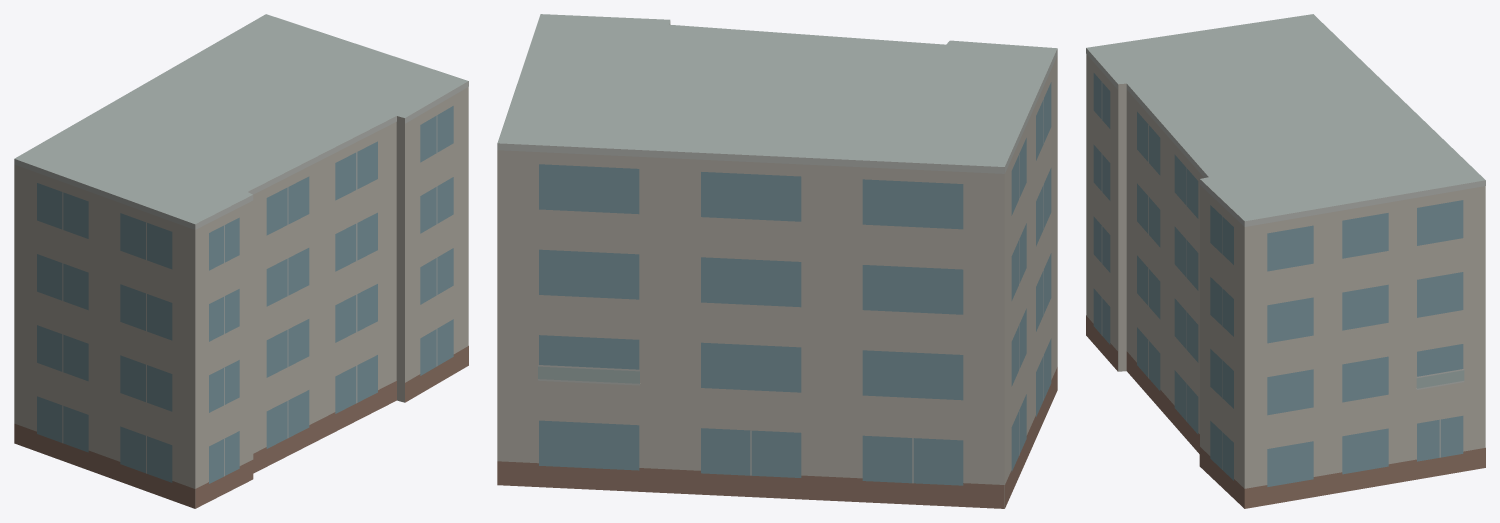
Rendered from survey-upis-32922028.glb.
The picture shows the model from 3 angles, left to right: view 1: azimuth 30°, elevation 25°; view 2: azimuth 150°, elevation 25°; view 3: azimuth 270°, elevation 25°; orthographic projection. The views are drawn at different scales.
Visible parts, largest first — view 1: survey-upis-32922028.tmp; view 2: survey-upis-32922028.tmp; view 3: survey-upis-32922028.tmp.
Part boxes in pixels (x1,y1,x2,y2): survey-upis-32922028.tmp: [14, 14, 468, 508]; survey-upis-32922028.tmp: [497, 14, 1057, 508]; survey-upis-32922028.tmp: [1086, 14, 1485, 508].
Bounding box in the file's own units: 18.88 × 12.2 × 15.38.
